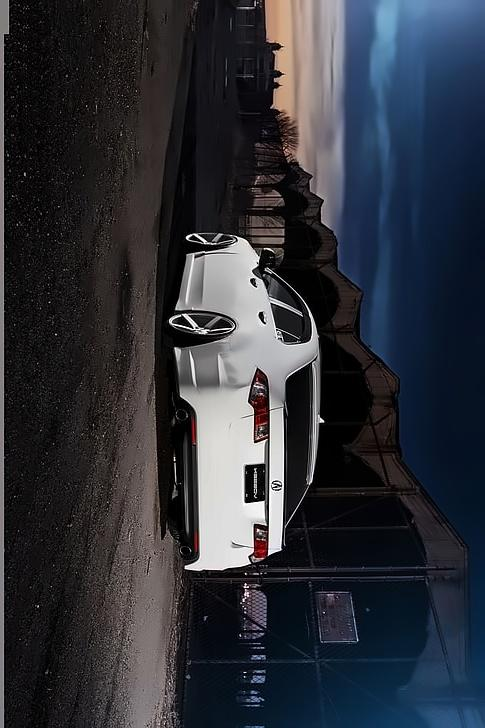Car boot: (226, 402, 282, 559)
Fender - -R-L-: (188, 300, 315, 391)
Passenger-s door - -F-L-: (168, 237, 325, 324)
Passenger-s door - -R-L-: (149, 285, 312, 356)
Rear bumper: (159, 326, 262, 572)
Rear light - -L-: (239, 361, 280, 443)
Rear light - -R-: (248, 513, 277, 566)
Side bumper - -R-: (163, 238, 205, 320)
